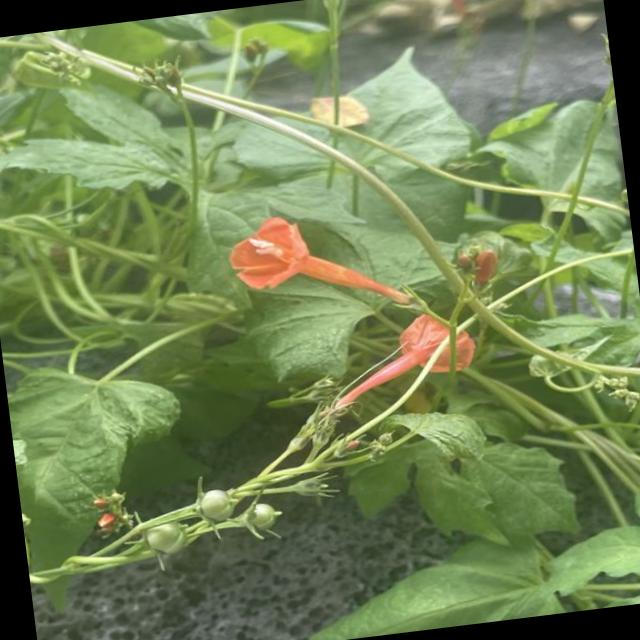ipomoea: (220, 198, 416, 330), (318, 305, 486, 417)
